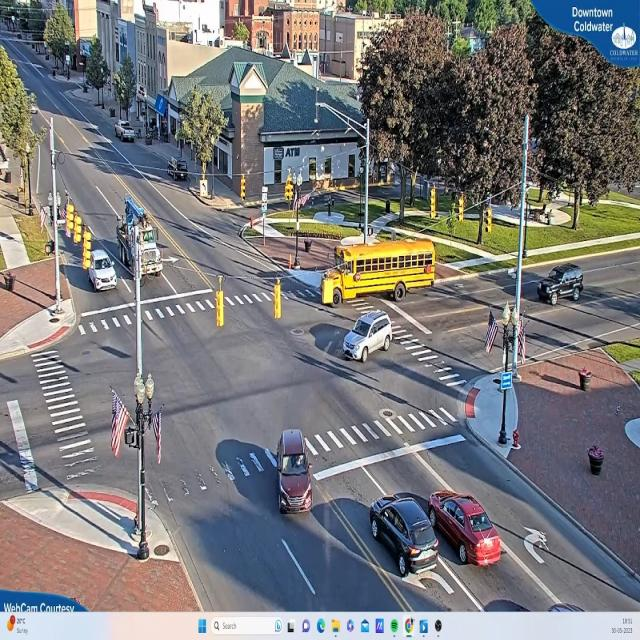bus: (320, 240, 436, 309)
car: (426, 490, 506, 569), (368, 494, 442, 577), (275, 430, 311, 514), (343, 310, 394, 361), (540, 267, 583, 305), (88, 251, 118, 292), (117, 122, 137, 144)
truck: (114, 194, 162, 288)
